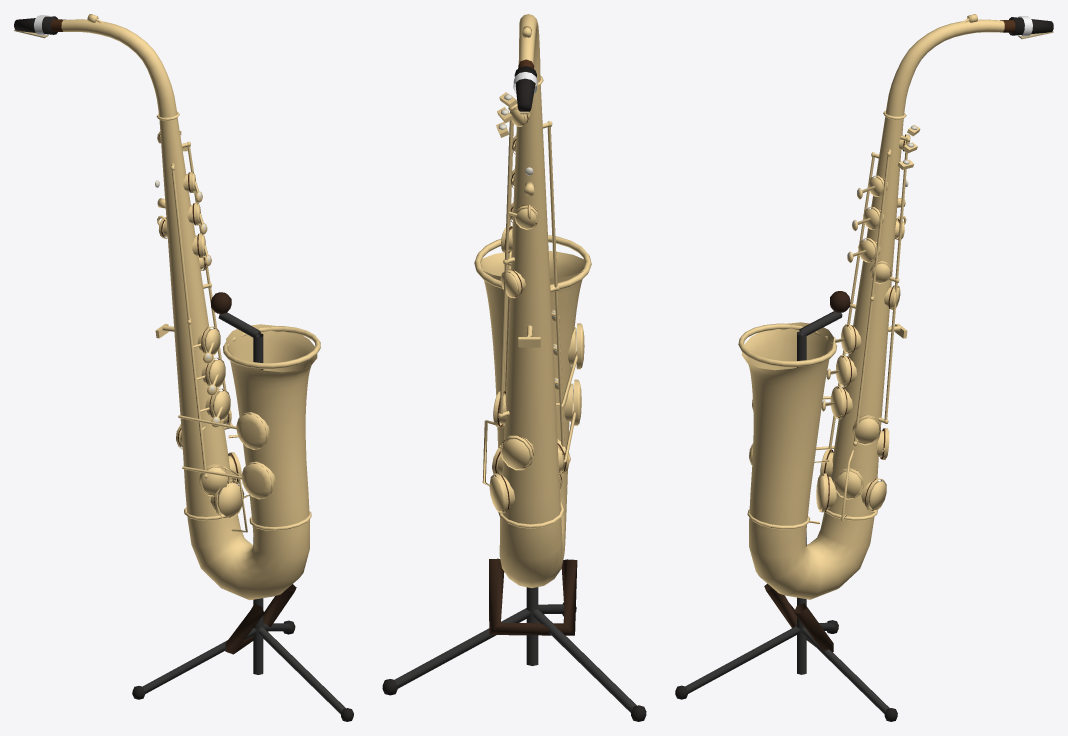
The model's file is instr_sax_stand.glb.
3 views of the same model, side by side, from view 1: azimuth 30°, elevation 25°; view 2: azimuth 150°, elevation 25°; view 3: azimuth 270°, elevation 25° (orthographic). The views are drawn at different scales.
Visible parts, largest first — view 1: sax_saxbrass, saxstand_blackmetal, saxstand_leather, sax_leather; view 2: sax_saxbrass, saxstand_blackmetal, saxstand_leather, sax_ebony, sax_leather, saxstand_ebony; view 3: sax_saxbrass, saxstand_blackmetal, saxstand_leather, sax_leather.
Boxes of the visible parts, x1,y1,x2,y2 form: sax_saxbrass: [61, 14, 320, 600]; saxstand_blackmetal: [142, 312, 345, 714]; saxstand_leather: [211, 292, 296, 654]; sax_leather: [51, 19, 239, 517]; sax_saxbrass: [474, 14, 591, 588]; saxstand_blackmetal: [394, 587, 636, 712]; saxstand_leather: [489, 558, 577, 635]; sax_ebony: [514, 66, 536, 111]; sax_leather: [495, 59, 566, 511]; saxstand_ebony: [382, 602, 646, 721]; sax_saxbrass: [738, 14, 1004, 599]; saxstand_blackmetal: [685, 311, 889, 714]; saxstand_leather: [764, 291, 850, 651]; sax_leather: [822, 20, 1015, 511].
Bounding box in the file's own units: 0.3775 × 1.12 × 0.607.
